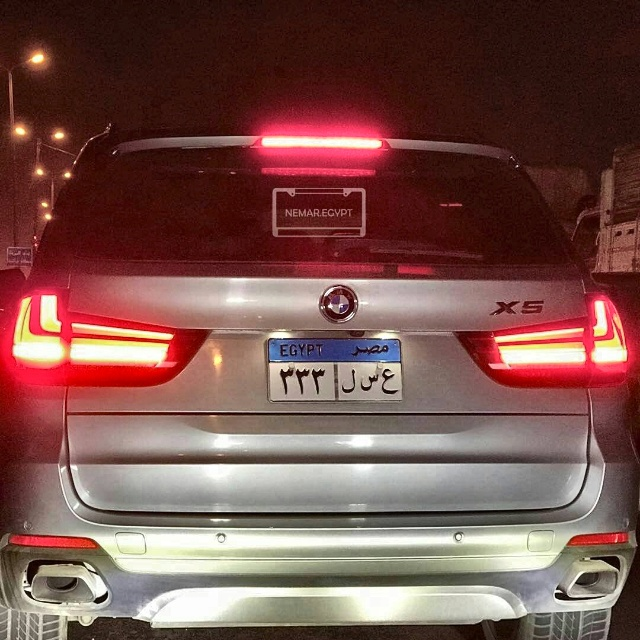License Plate: (264, 336, 406, 405)
